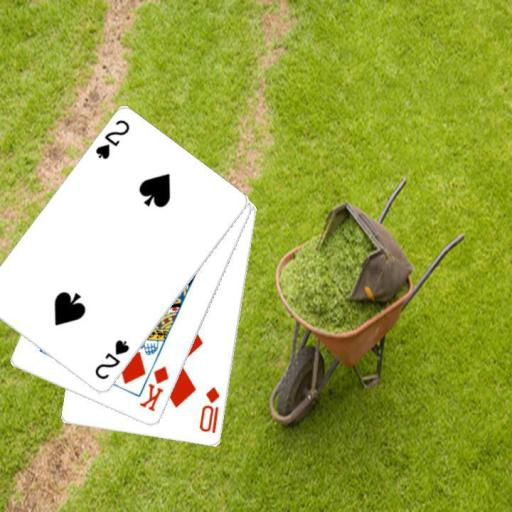10D: (196, 384, 221, 435)
2S: (92, 117, 132, 162), (92, 336, 131, 382)
KD: (137, 363, 171, 413)
